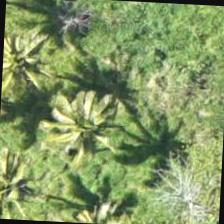Kelapa_Sawit: (38, 76, 133, 171), (0, 20, 69, 114), (50, 174, 143, 223), (0, 146, 51, 222)
